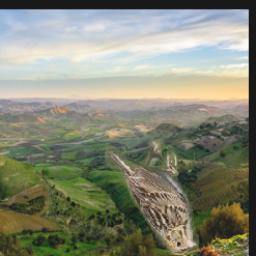Sparrow: (104, 139, 198, 255)
